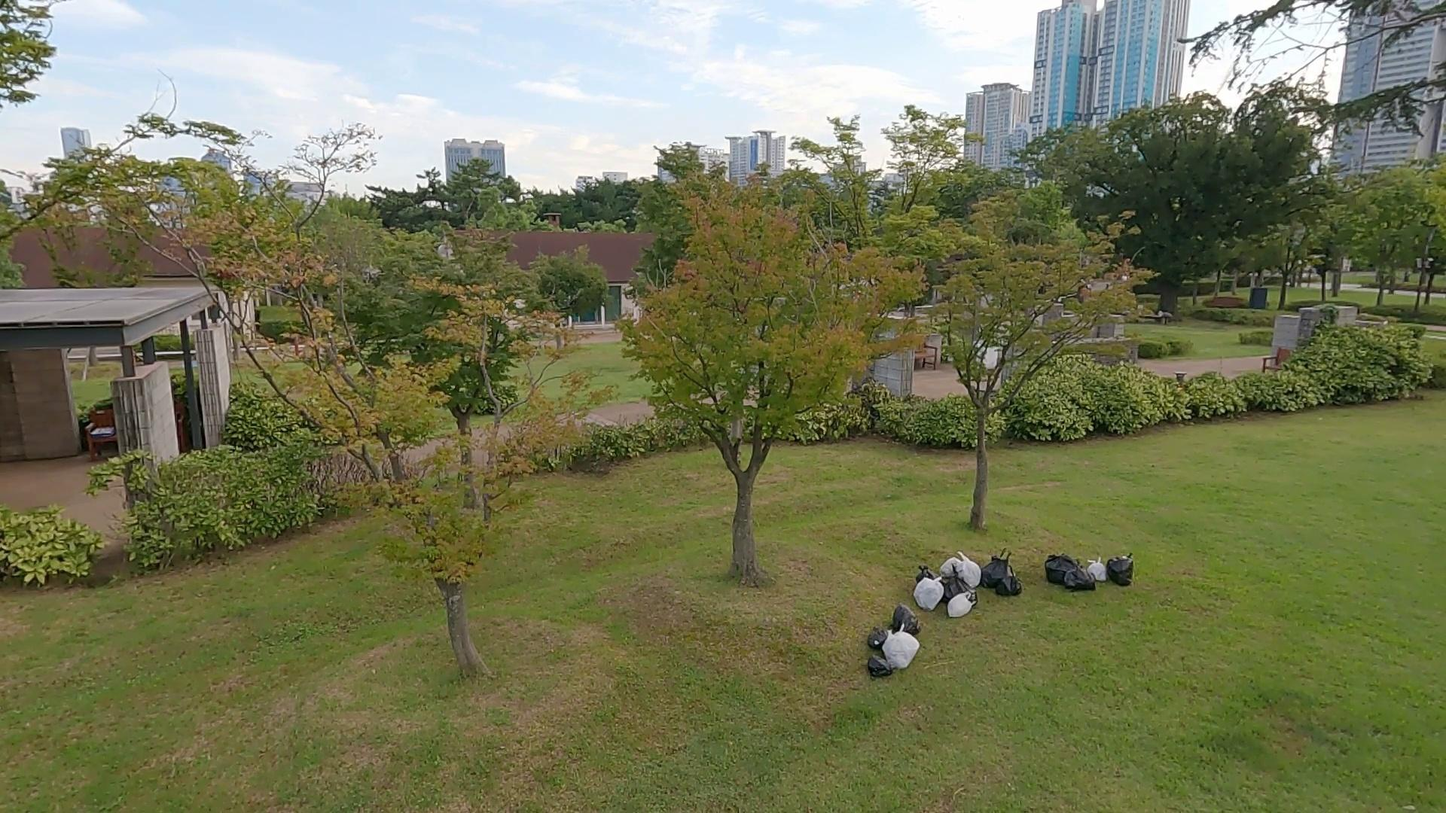trash: (877, 626, 921, 672), (936, 564, 978, 609), (976, 546, 1016, 587), (1060, 559, 1101, 593), (1100, 552, 1137, 587), (912, 575, 946, 610), (950, 549, 982, 585), (1044, 553, 1077, 587), (992, 565, 1023, 599), (945, 589, 979, 618), (890, 607, 924, 634), (936, 551, 962, 578), (1084, 554, 1106, 583), (869, 656, 893, 678), (914, 563, 938, 585), (865, 629, 887, 650)
